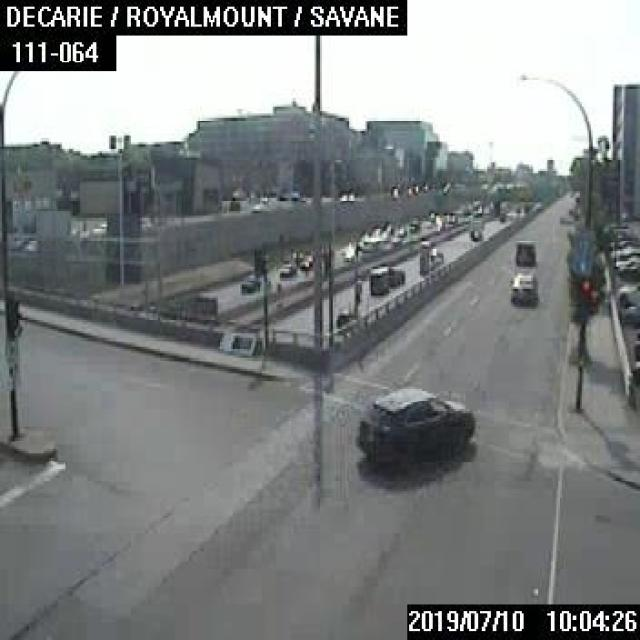vehicle: (356, 382, 476, 467), (368, 264, 403, 292), (508, 272, 538, 304), (617, 279, 638, 305), (514, 238, 535, 264), (334, 308, 353, 328), (238, 275, 259, 293), (621, 303, 638, 323), (276, 262, 295, 276), (298, 254, 312, 268), (342, 248, 354, 259)
